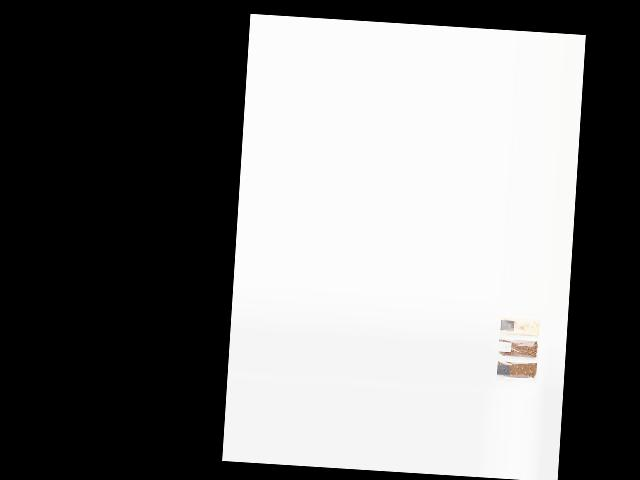chocolate: (496, 361, 538, 382)
